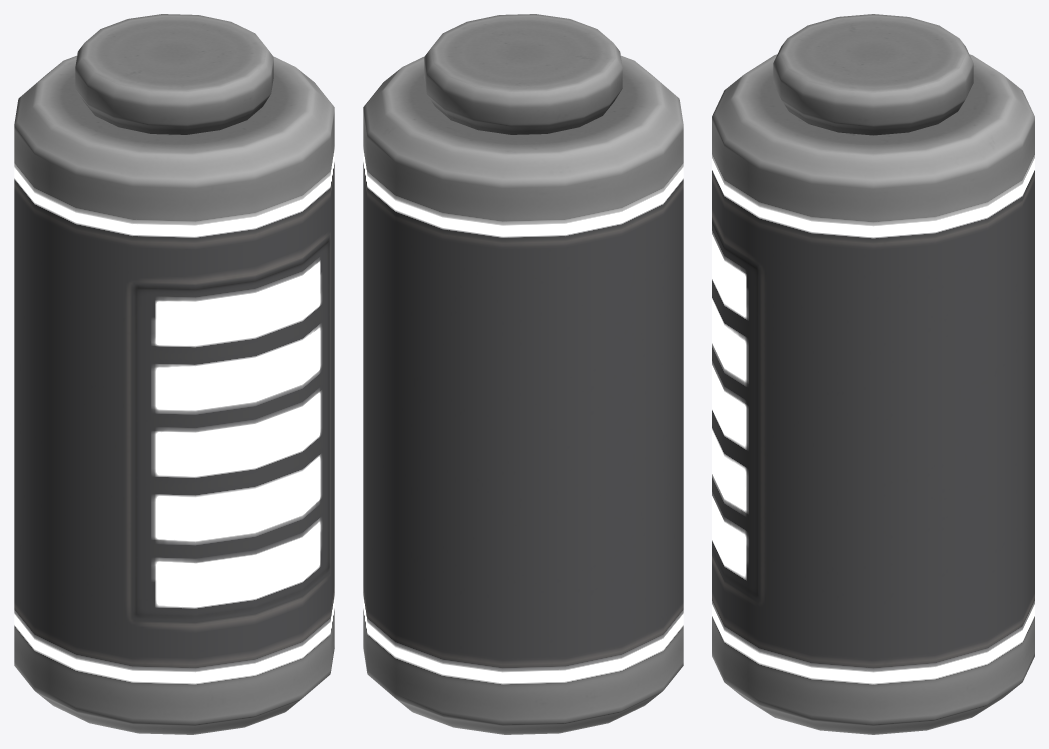
Rendered from SciFiMedPack01_3.FBX.
3 renders of one model, left to right at view 1: azimuth 30°, elevation 25°; view 2: azimuth 150°, elevation 25°; view 3: azimuth 270°, elevation 25°, orthographic.
Visible parts, largest first — view 1: SciFiMedPack01_3; view 2: SciFiMedPack01_3; view 3: SciFiMedPack01_3.
Boxes of the visible parts, <box> form: SciFiMedPack01_3: <box>14,14,334,734</box>; SciFiMedPack01_3: <box>363,14,683,734</box>; SciFiMedPack01_3: <box>712,14,1034,734</box>.
Size of what is drawn, in the model's own units: 0.0887 by 0.1888 by 0.0887.
